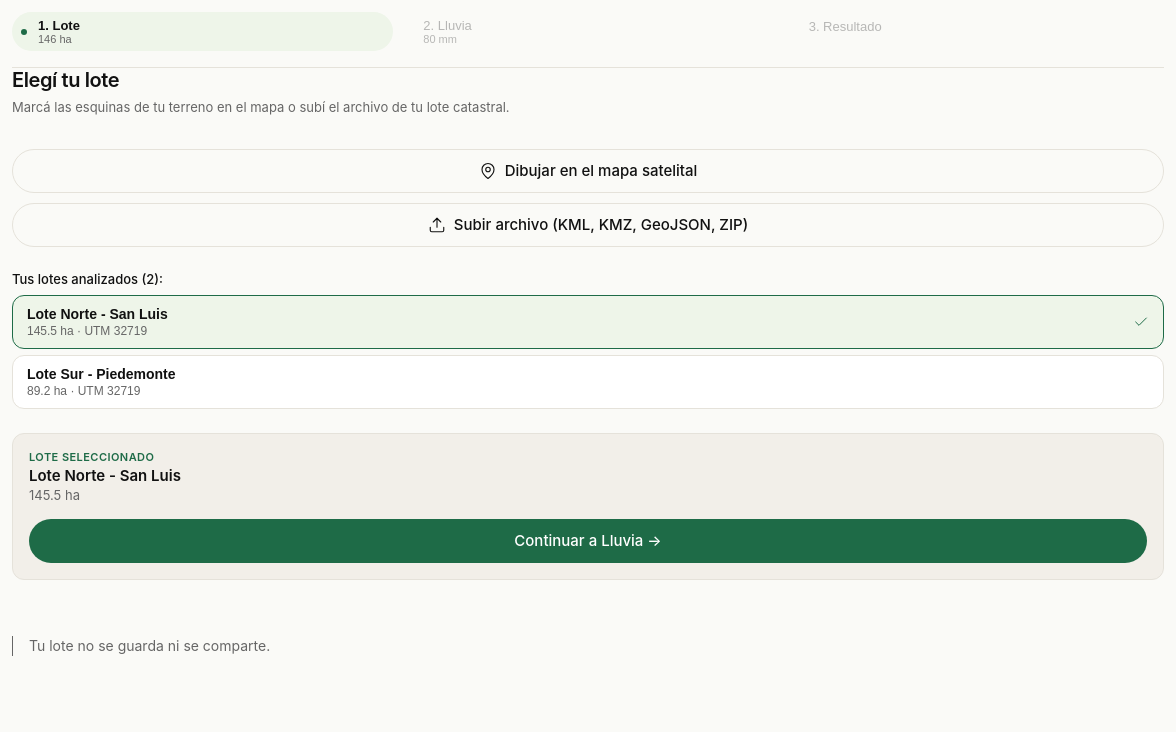
Test: Flujo Lote -> Lluvia -> Resultado › Integración: Flujo completo interactivo (Lote -> Lluvia -> Resultado) › navega de punta a punta: lote seleccionado -> lluvia elegida -> simulación -> resultado visible
expect the heading "Elegí tu lote" is shown: met, box [12,68,119,92]
Click the button "Continuar a Lluvia →" at [588, 541], box [29,519,1147,563]
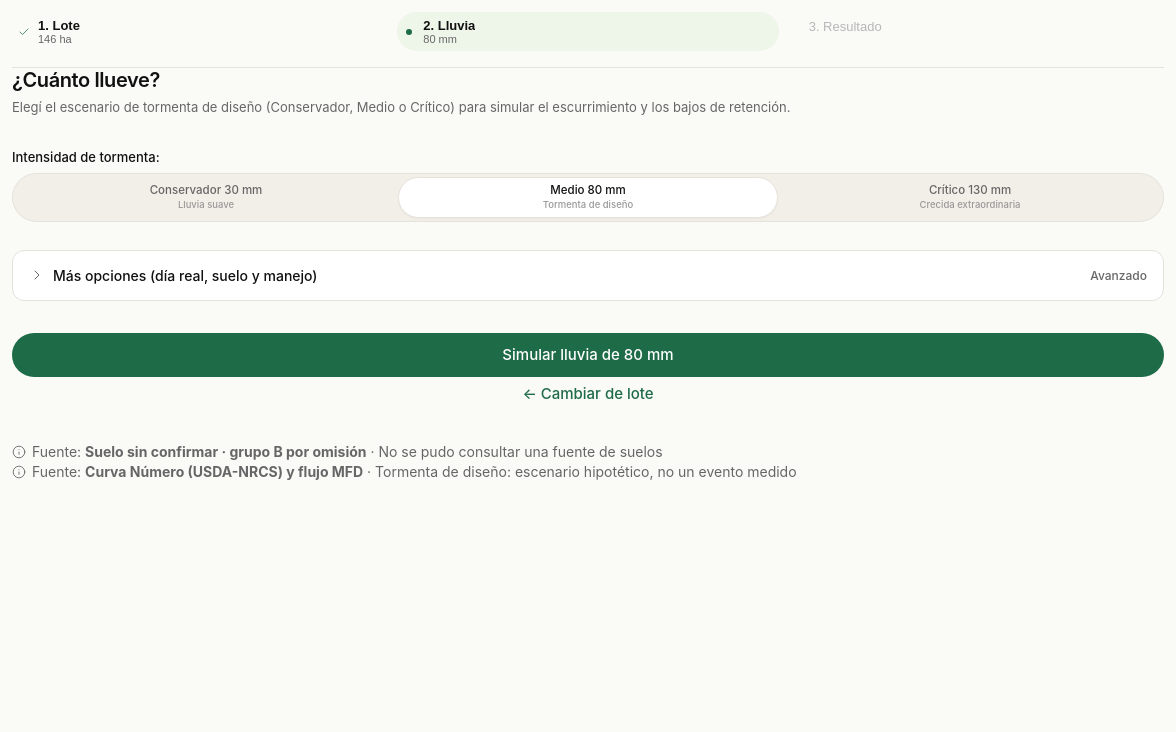
expect the heading "¿Cuánto llueve?" is shown: met, box [12,68,160,92]
expect the text "Medio 80 mm" is shown: met, box [550,183,626,197]
Note: Cambiamos a lluvia de 130 mm
Click the button "Crítico 130 mm Crecida extraordinaria" at [970, 197], box [780,177,1160,218]
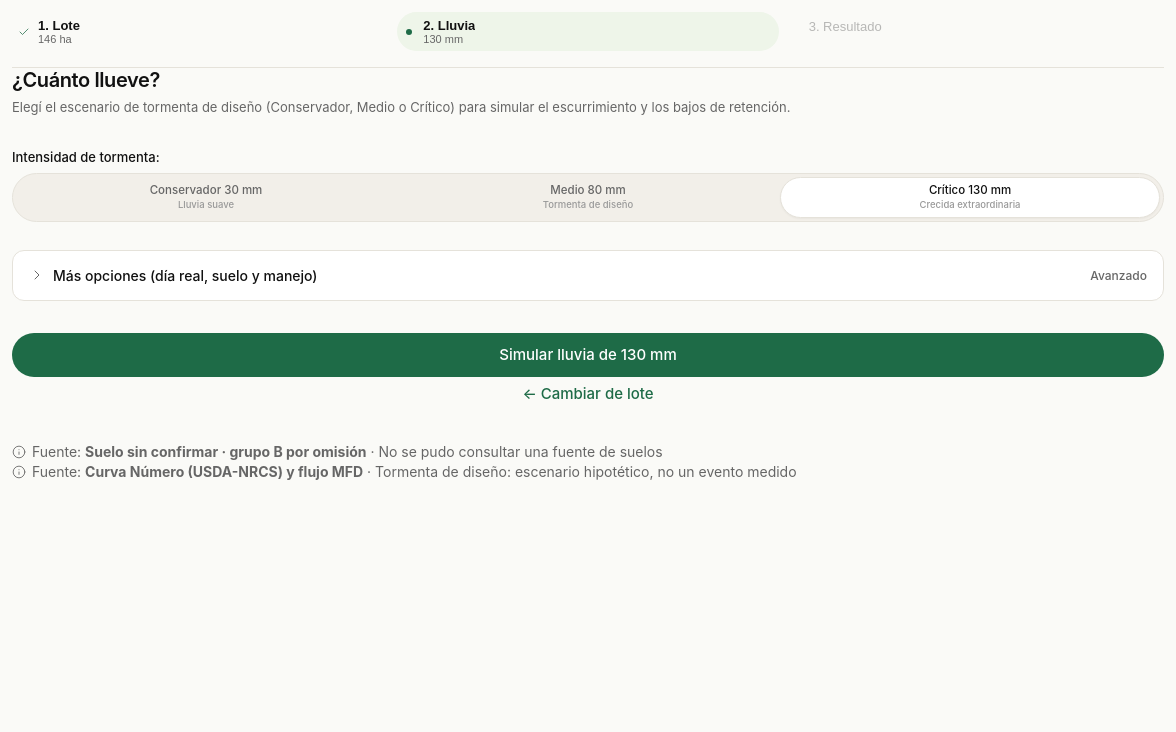
Note: Hacemos clic en simular
Click the button "Simular lluvia de 130 mm" at [588, 355], box [12,333,1164,377]
(page scrolled)
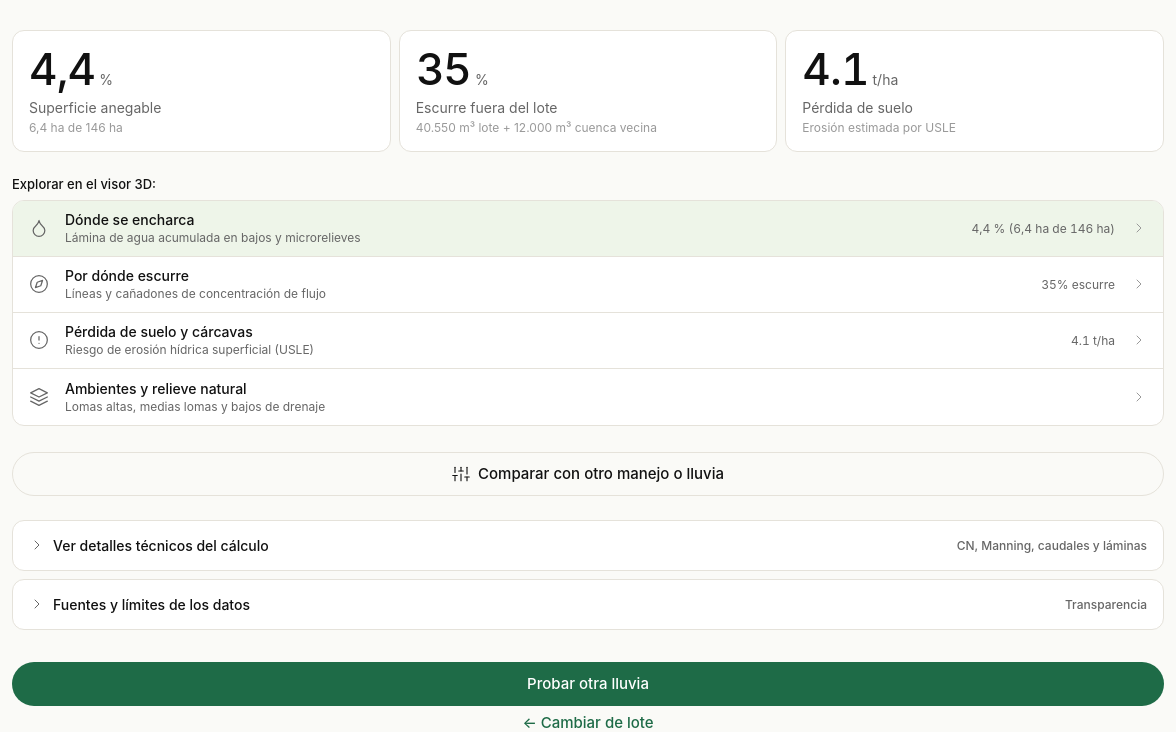
expect the text "35" is shown: met, box [416,47,471,91]
expect the text "4,4" is shown: met, box [29,47,95,91]
expect the text "6,4 ha de 146 ha" is shown: met, box [29,120,123,135]
Note: Volver a lluvia con "Probar otra lluvia"
Click the button "Probar otra lluvia" at [588, 684], box [12,662,1164,706]
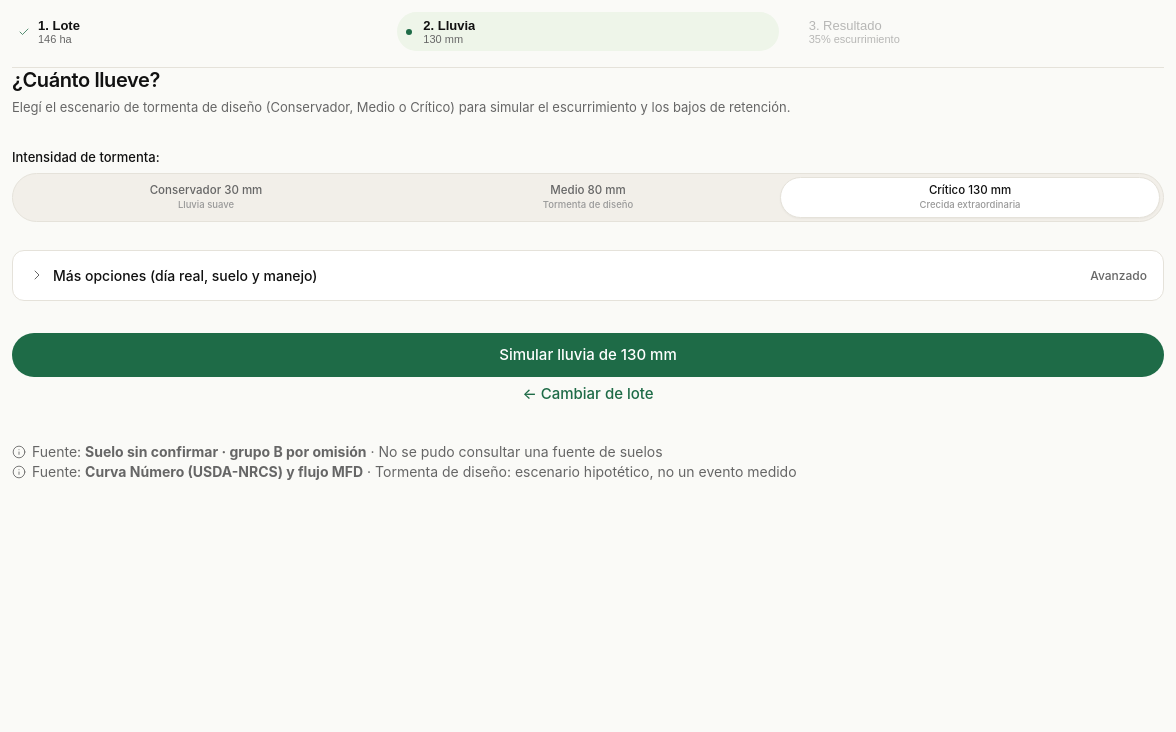
expect the heading "¿Cuánto llueve?" is shown: met, box [12,68,160,92]
Note: Volver a lote con StepNav
Click the button "1. Lote 146 ha" at [59, 26], box [12,12,393,51]
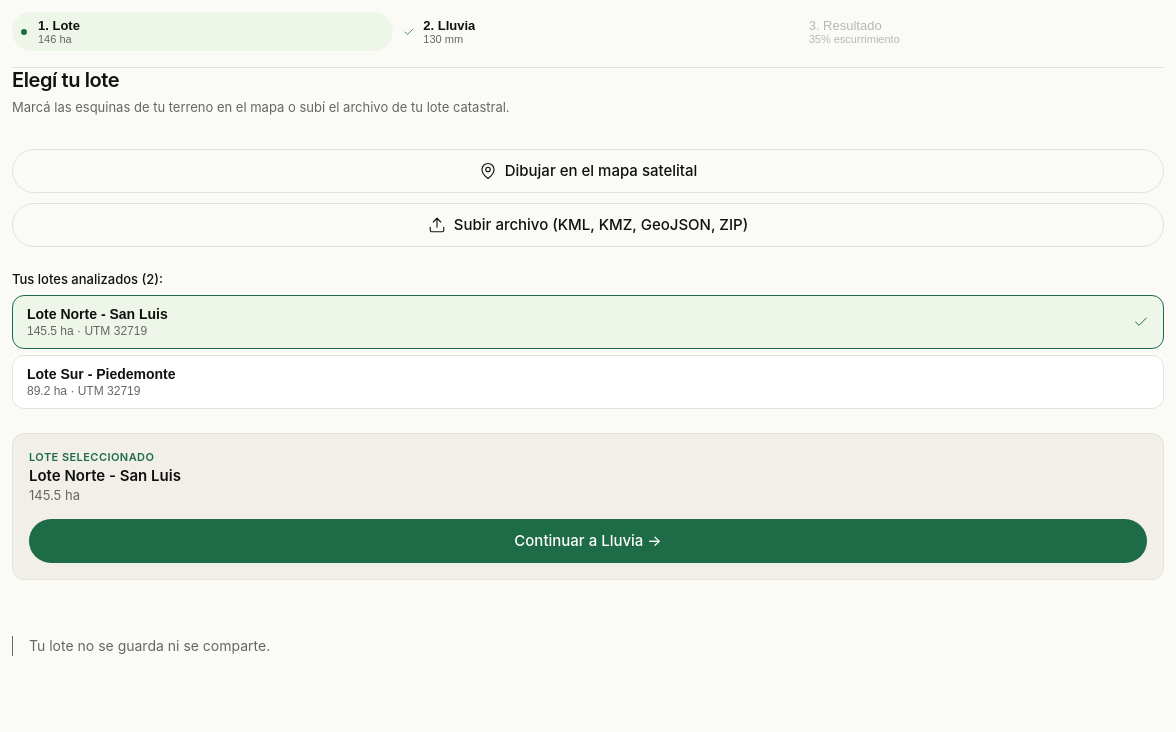
expect the heading "Elegí tu lote" is shown: met, box [12,68,119,92]
